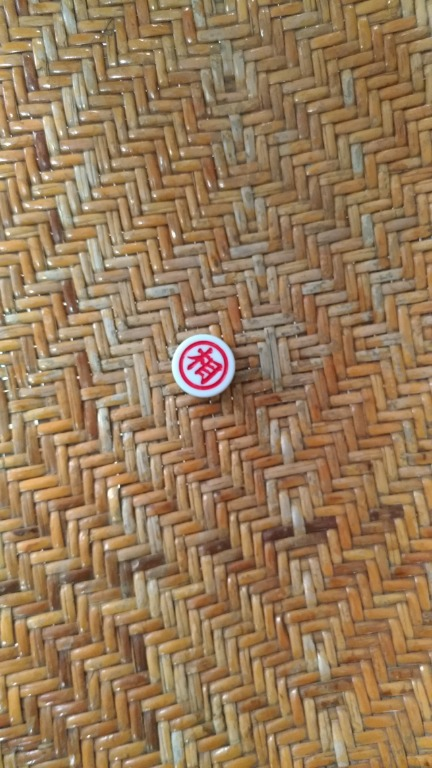r-elephant: (160, 327, 249, 408)
